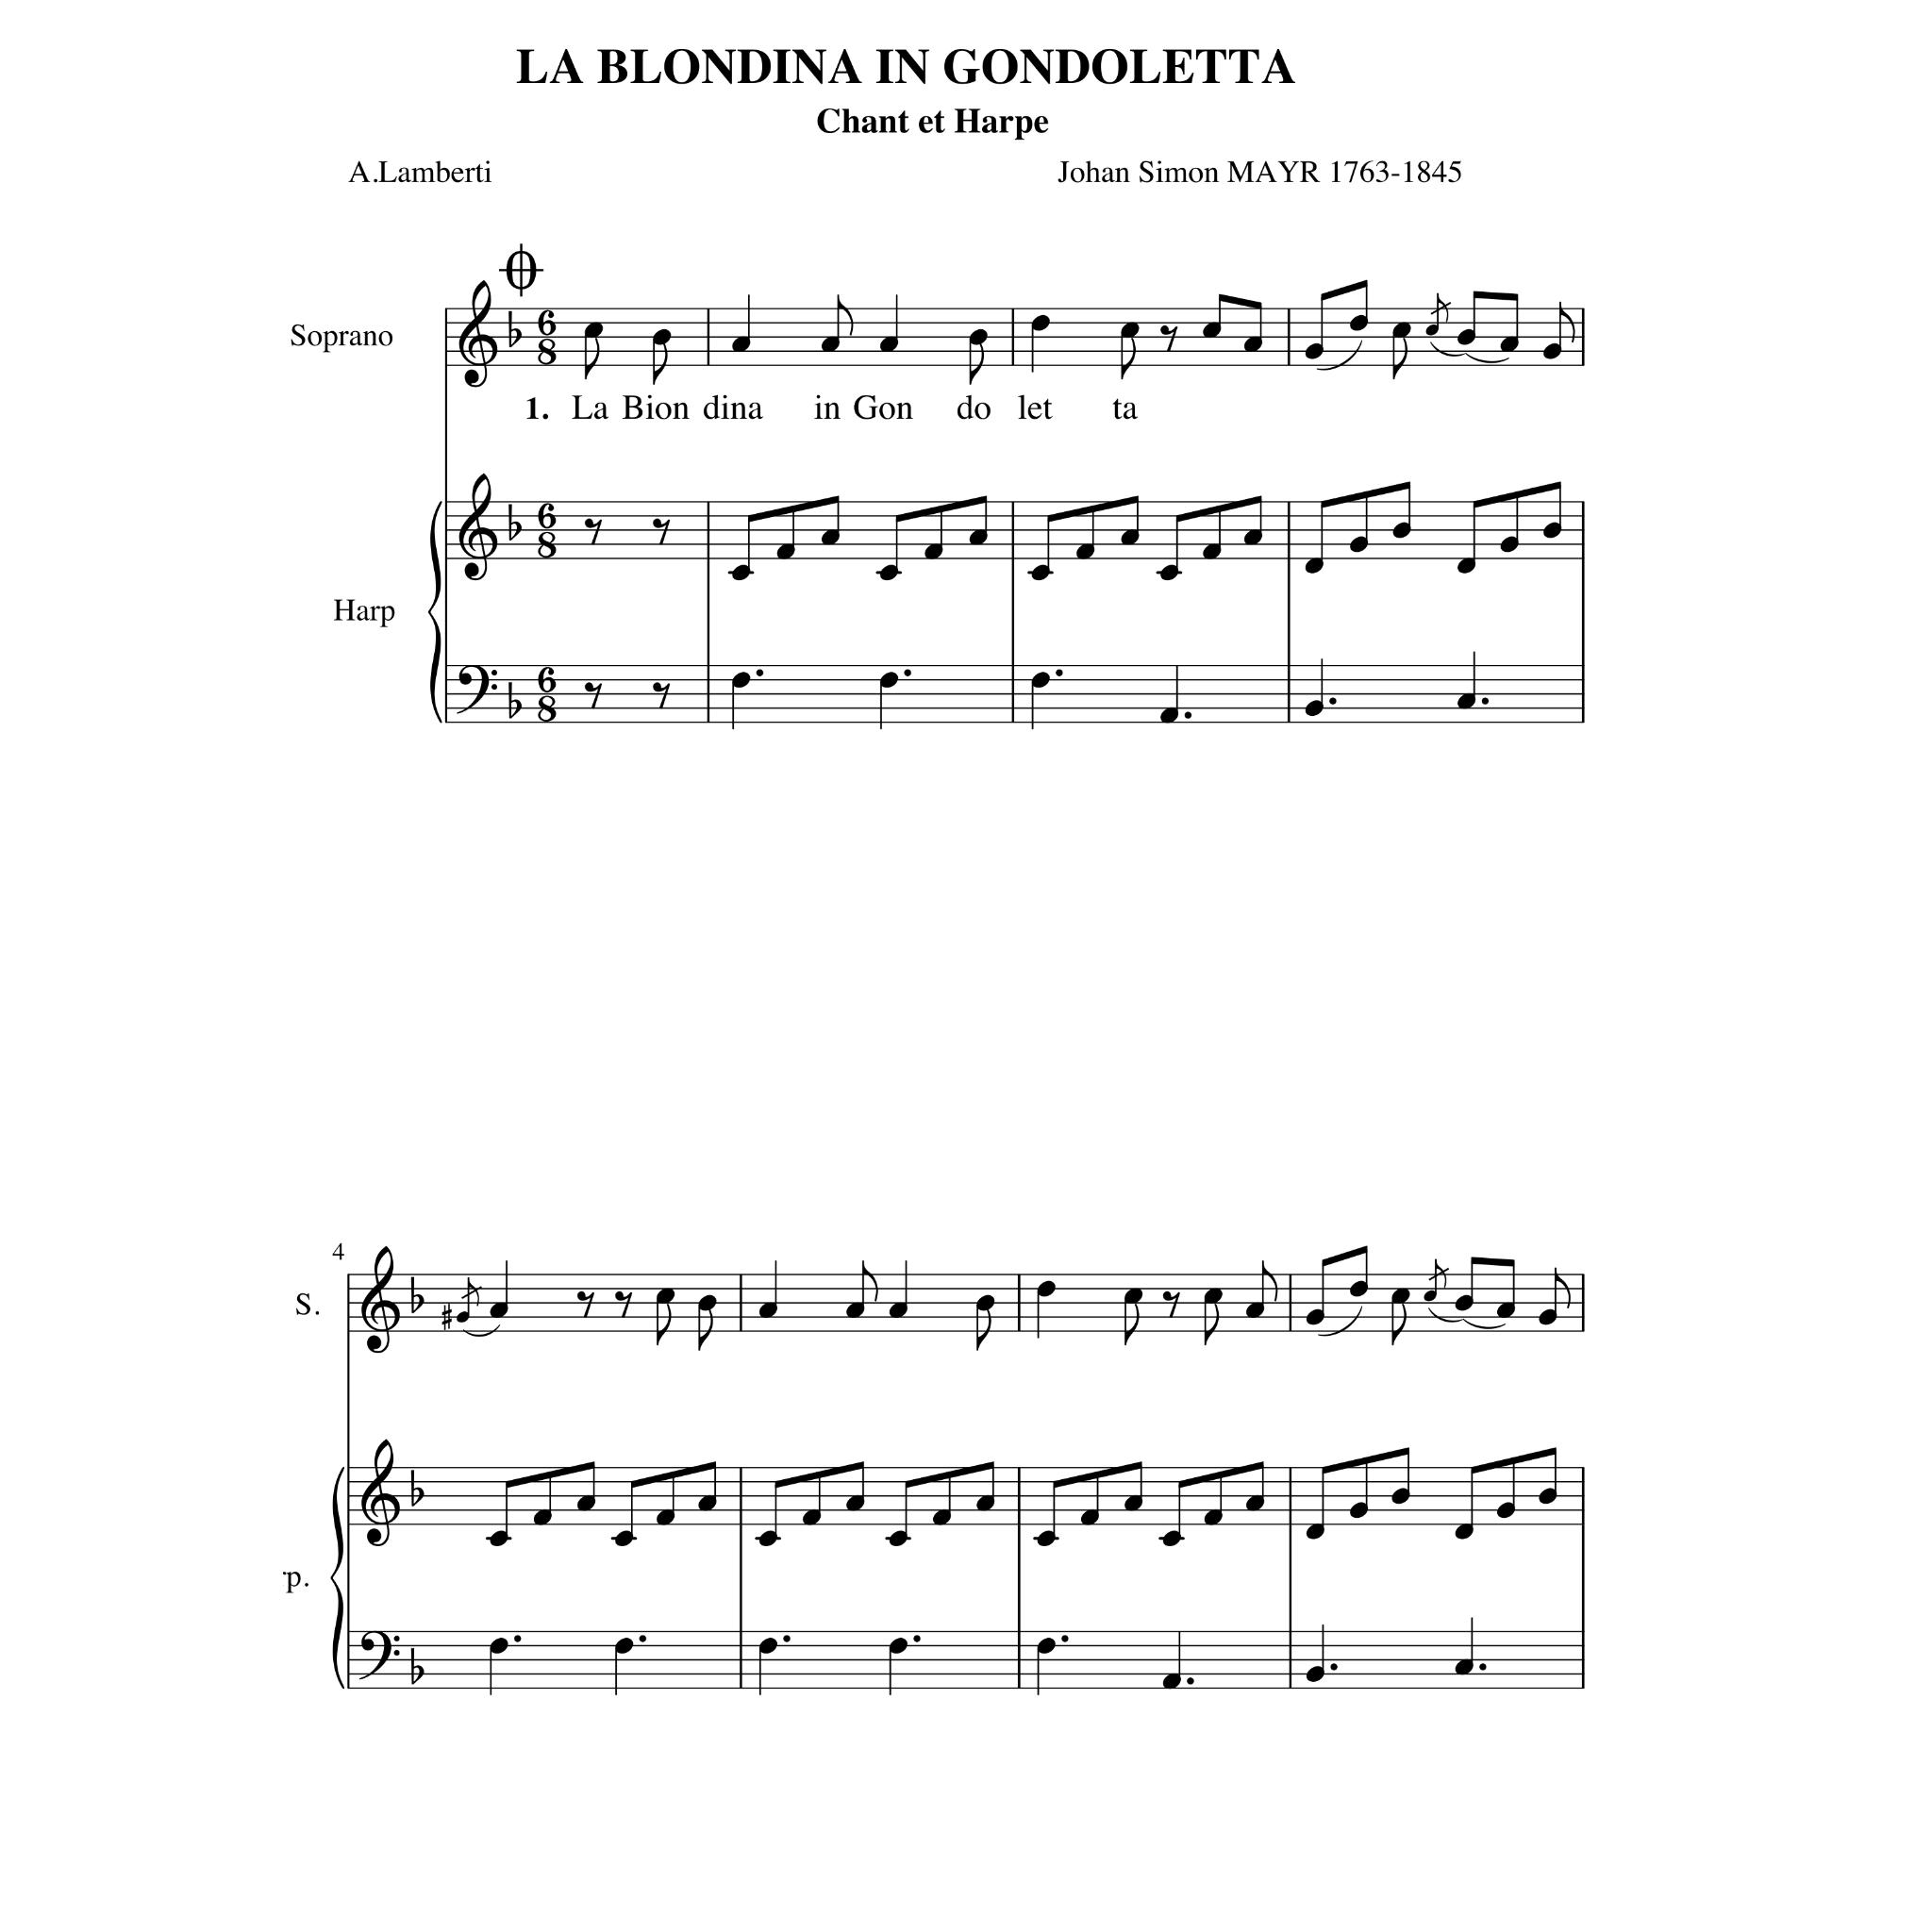brace: (329, 1467, 345, 1690), (428, 501, 442, 724)
fClef: (456, 665, 497, 715), (359, 1631, 400, 1681)
flag8thDown: (1120, 338, 1136, 380), (1392, 338, 1408, 380), (653, 343, 669, 386), (1203, 1304, 1219, 1346), (1123, 1304, 1139, 1346), (1391, 1304, 1407, 1346), (697, 1309, 713, 1352), (656, 1304, 672, 1346), (586, 338, 600, 380), (970, 343, 984, 386), (977, 1309, 991, 1352)
flag8thUp: (460, 1269, 483, 1306), (1428, 1251, 1449, 1290), (1430, 285, 1451, 322), (1553, 1267, 1571, 1309), (1559, 301, 1575, 343), (1261, 1261, 1277, 1304), (862, 1261, 878, 1304), (837, 295, 853, 336)
gClef: (458, 472, 499, 582), (458, 281, 499, 389), (361, 1438, 400, 1548), (361, 1246, 400, 1353)
noteheadBlack: (731, 671, 752, 690), (1031, 671, 1051, 690), (879, 671, 899, 690), (1306, 1665, 1325, 1684), (1242, 336, 1263, 354), (1242, 529, 1263, 547), (731, 336, 752, 354), (968, 329, 989, 347), (968, 529, 989, 547), (488, 1530, 510, 1548), (757, 1530, 778, 1548), (844, 1495, 865, 1513), (1304, 557, 1323, 575), (1304, 343, 1323, 361), (1348, 315, 1368, 333), (1159, 708, 1178, 725), (1120, 529, 1139, 547), (1120, 322, 1139, 340), (1201, 322, 1221, 340), (1348, 536, 1368, 554), (1201, 543, 1221, 561), (1500, 536, 1520, 554), (1500, 336, 1520, 354), (1391, 522, 1410, 540), (1391, 322, 1410, 340), (1456, 694, 1476, 711), (1456, 557, 1476, 575), (1456, 329, 1476, 347), (653, 329, 672, 347), (777, 543, 796, 561), (584, 322, 603, 340), (1031, 315, 1051, 333), (1076, 543, 1095, 561), (879, 336, 899, 354), (821, 529, 840, 547), (821, 336, 840, 354), (924, 543, 943, 561), (1162, 1672, 1182, 1690), (1162, 1530, 1182, 1548), (1123, 1495, 1143, 1513), (1348, 1279, 1368, 1297), (1454, 1658, 1474, 1675), (614, 1530, 633, 1548), (577, 1495, 596, 1513), (697, 1495, 717, 1513), (888, 1530, 908, 1548), (1037, 1530, 1056, 1548), (1037, 1279, 1056, 1297), (975, 1495, 994, 1513), (731, 564, 752, 580), (1495, 1502, 1516, 1518), (1495, 1302, 1516, 1318), (655, 1509, 676, 1525), (655, 1288, 676, 1304), (488, 1638, 510, 1654), (488, 1302, 510, 1318), (757, 1302, 778, 1318), (757, 1638, 778, 1654), (844, 1302, 865, 1318), (1543, 522, 1560, 540), (1543, 343, 1560, 361), (1246, 1495, 1263, 1513), (1304, 701, 1323, 717), (1159, 564, 1178, 580), (1031, 564, 1051, 580), (879, 564, 899, 580), (1203, 1509, 1223, 1525), (1203, 1288, 1223, 1304), (1306, 1523, 1325, 1539), (1306, 1309, 1325, 1325), (1079, 1509, 1099, 1525), (1123, 1288, 1143, 1304), (1537, 1488, 1557, 1504), (1537, 1309, 1557, 1325), (1391, 1488, 1410, 1504), (1391, 1288, 1410, 1304), (1348, 1502, 1368, 1518), (1454, 1523, 1474, 1539), (1454, 1295, 1474, 1311), (614, 1638, 633, 1654), (533, 1509, 552, 1525), (697, 1295, 717, 1311), (932, 1509, 952, 1525), (888, 1638, 908, 1654), (888, 1302, 908, 1318), (1037, 1638, 1056, 1654), (975, 1295, 994, 1311), (801, 1509, 821, 1525), (1246, 1302, 1263, 1318), (1424, 324, 1438, 336), (1422, 1290, 1437, 1302), (456, 1311, 471, 1323)
rest8th: (1159, 326, 1178, 354), (584, 683, 603, 711), (1161, 1290, 1180, 1318), (614, 1290, 633, 1318), (584, 518, 603, 545), (653, 683, 671, 711), (577, 1290, 594, 1318), (653, 518, 671, 545)
